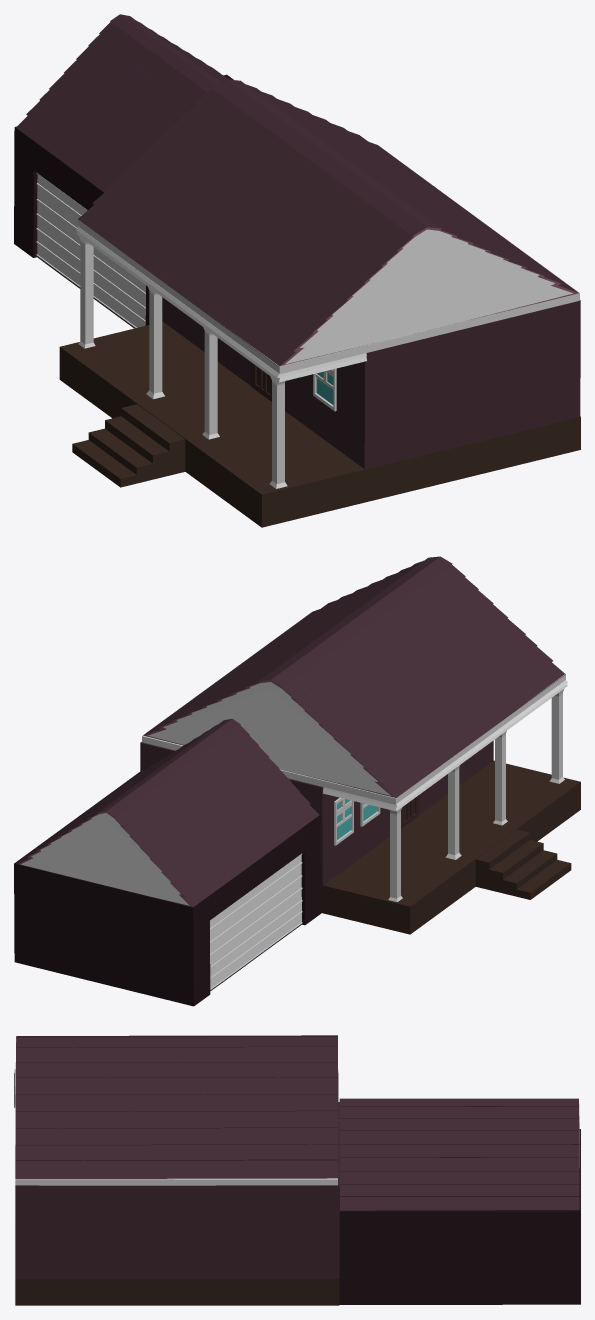
Rendered from House_2.fbx.
3 renders of one model, top to bottom at view 1: azimuth 30°, elevation 25°; view 2: azimuth 150°, elevation 25°; view 3: azimuth 270°, elevation 25°, orthographic. The views are drawn at different scales.
Visible parts, largest first — view 1: pPrism1, pCube22, pCube1, pPrism2, pCube19, pCube23, pCube2, pCube5, pCube13, pCube14, pCube9, pCube15 (+2 smaller); view 2: pPrism1, pCube19, pPrism2, pCube22, pCube1, pCube23, pCube2, pCube5, pCube13, pCube15, pCube9, pCube14 (+2 smaller); view 3: pPrism1, pCube1, pPrism2, pCube19, pCube22, pCube2.
Boxes of the visible parts, <box> form: pPrism1: <box>78,79,578,366</box>; pCube22: <box>59,321,580,527</box>; pCube1: <box>162,297,580,469</box>; pPrism2: <box>16,14,228,192</box>; pCube19: <box>14,74,233,328</box>; pCube23: <box>72,404,185,487</box>; pCube2: <box>78,214,579,374</box>; pCube5: <box>76,226,366,377</box>; pCube13: <box>146,287,164,399</box>; pCube14: <box>202,327,219,439</box>; pCube9: <box>78,236,95,348</box>; pCube15: <box>269,376,287,488</box>; pPrism1: <box>143,556,565,797</box>; pCube19: <box>14,771,321,1006</box>; pPrism2: <box>18,718,319,906</box>; pCube22: <box>321,760,580,934</box>; pCube1: <box>140,740,493,886</box>; pCube23: <box>475,829,571,899</box>; pCube2: <box>142,612,565,804</box>; pCube5: <box>323,680,567,807</box>; pCube13: <box>445,765,461,859</box>; pCube15: <box>549,689,564,783</box>; pCube9: <box>388,808,402,901</box>; pCube14: <box>493,731,507,825</box>; pPrism1: <box>15,1035,337,1178</box>; pCube1: <box>15,1102,339,1278</box>; pPrism2: <box>339,1098,579,1210</box>; pCube19: <box>339,1129,580,1304</box>; pCube22: <box>15,1185,339,1305</box>; pCube2: <box>15,1062,337,1185</box>.
Size of the model in its own units: 18.17 by 11.81 by 29.
